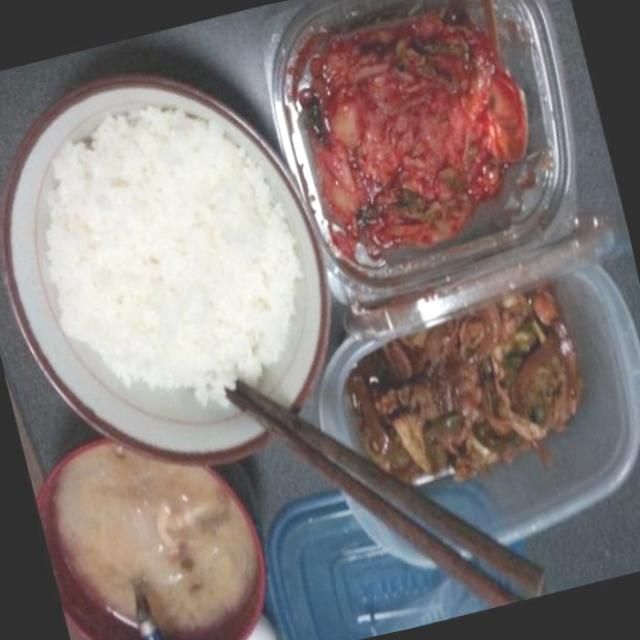Rice: (20, 91, 317, 436)
